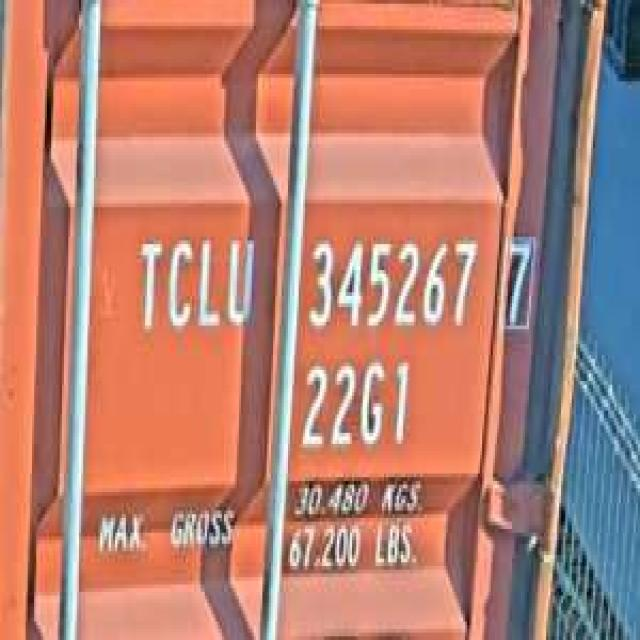dv: (499, 229, 538, 333)
owner: (132, 222, 258, 340)
serial: (301, 226, 480, 340)
size: (296, 348, 414, 466)
